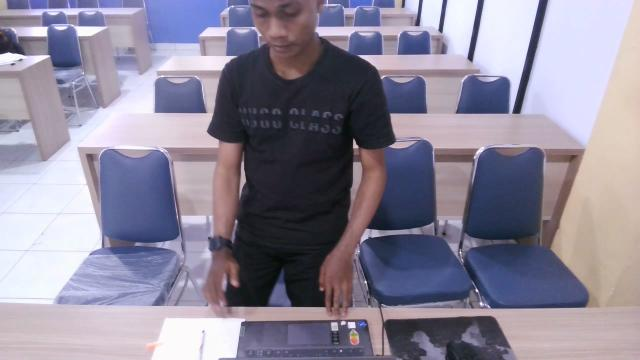Empty_Desk: (203, 0, 406, 360)
